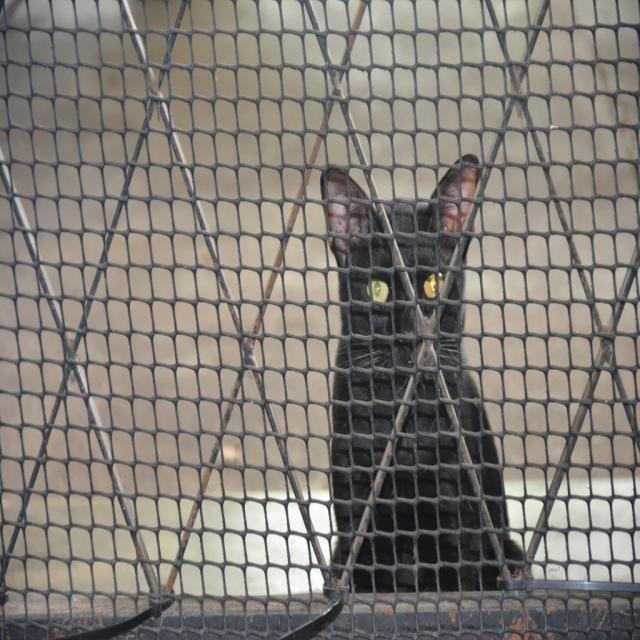Cat: (318, 146, 522, 590)
